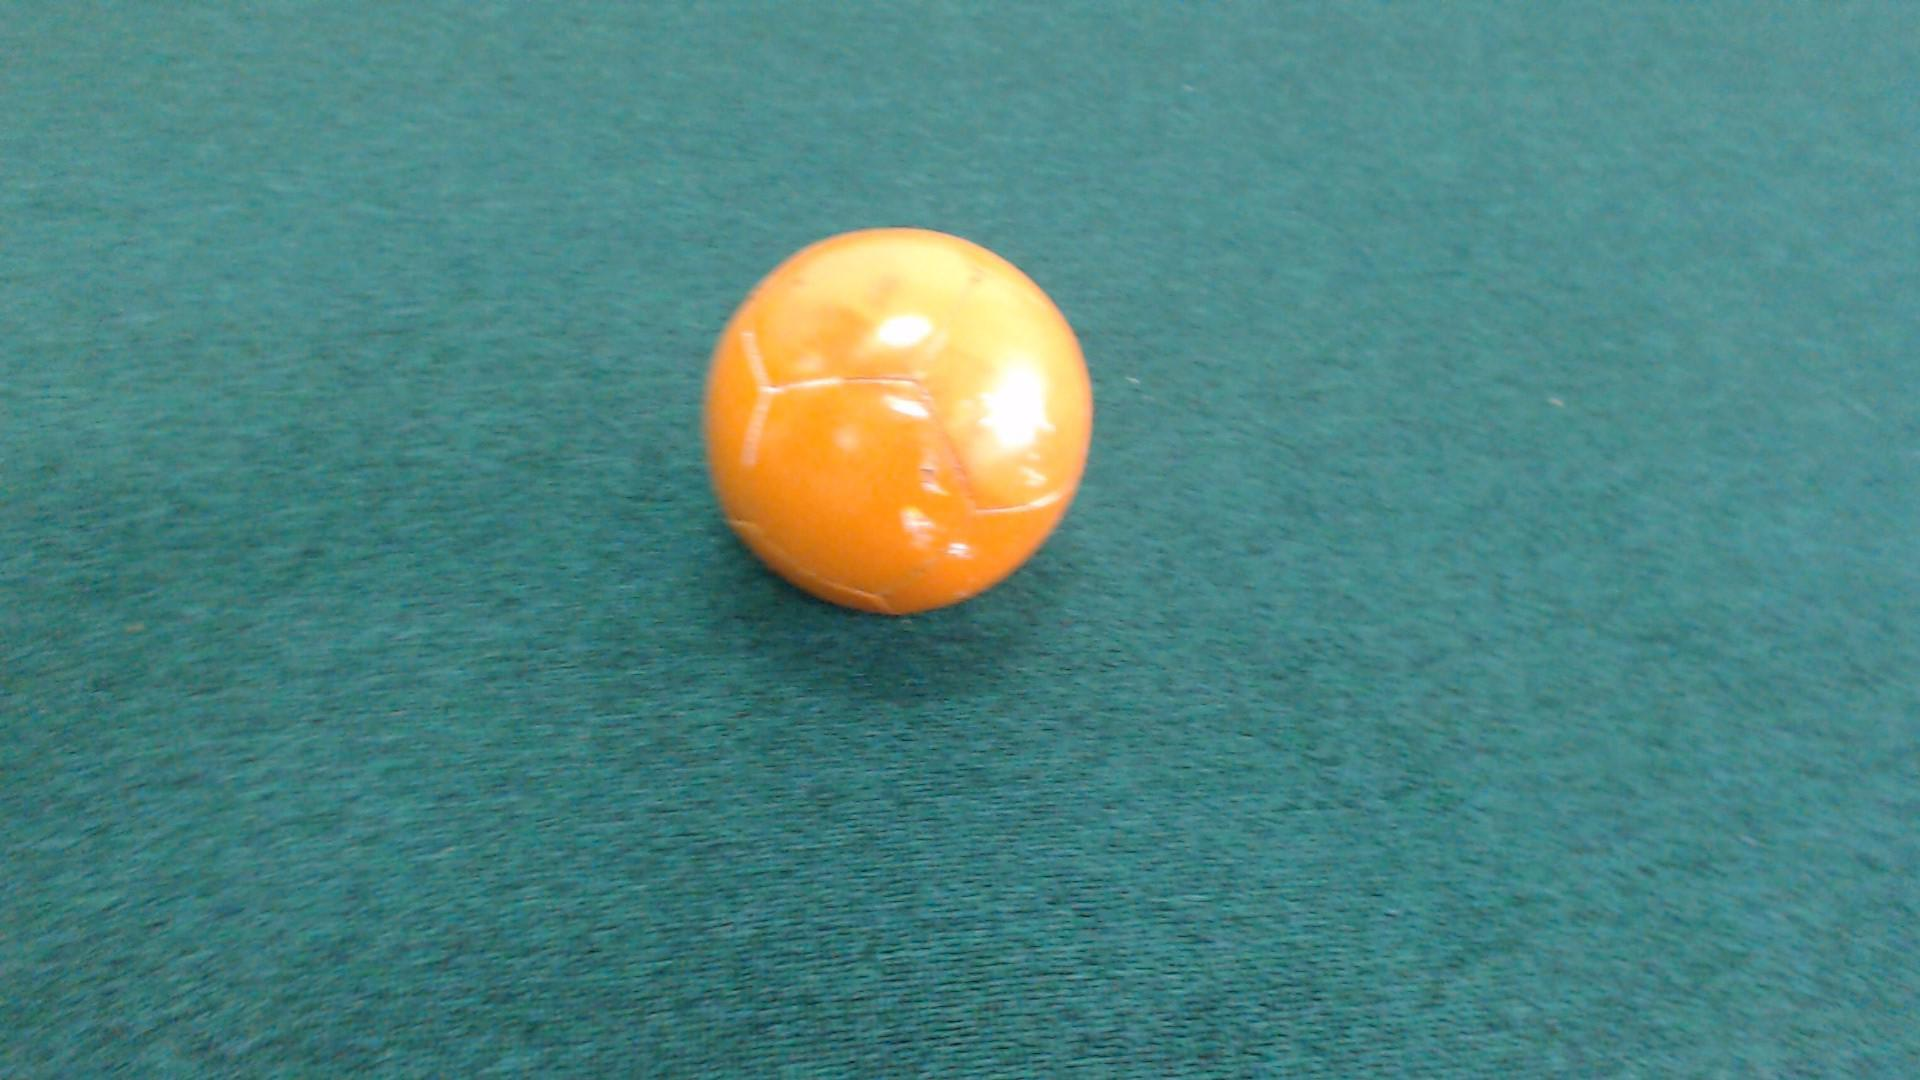bola: (669, 208, 1134, 650)
